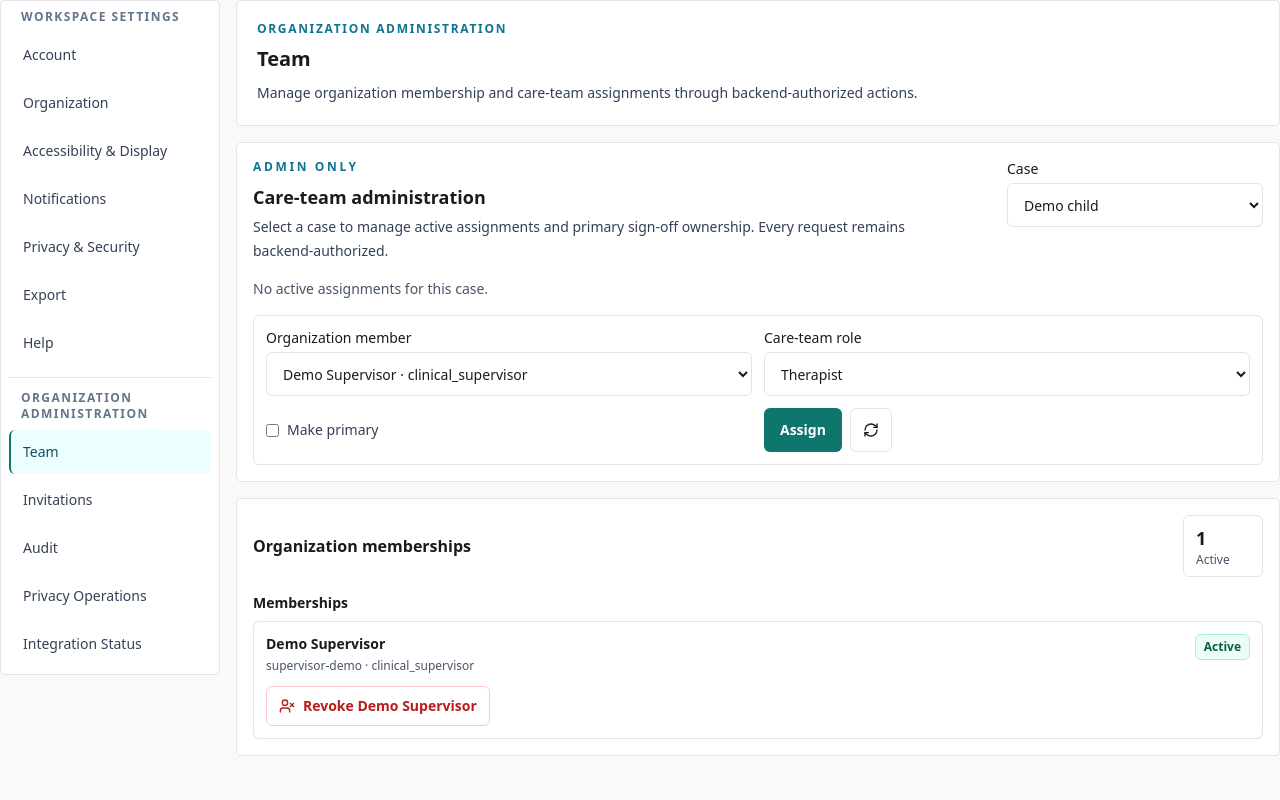
SettingsWorkspaceClient admin lifecycle UX › keeps care-team mutations inside authorized settings and sends org-admin headers
Expected: the heading "Care-team administration" is shown, x1=253 y1=185 x2=486 y2=209
Select "Clinical supervisor" in the dropdown labelled "Care-team role" at (1007, 374), box x1=764 y1=352 x2=1250 y2=396
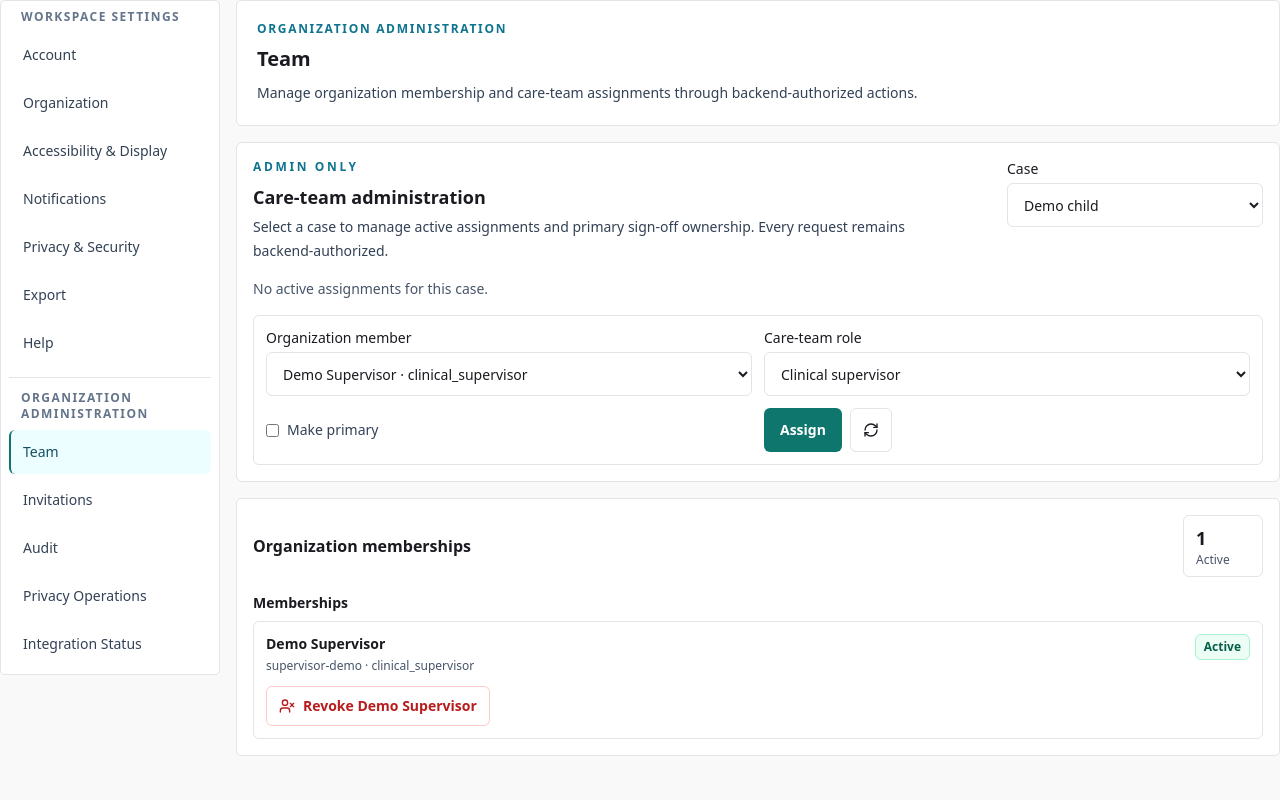
Click the button "Assign" at (803, 430), box x1=764 y1=408 x2=842 y2=452
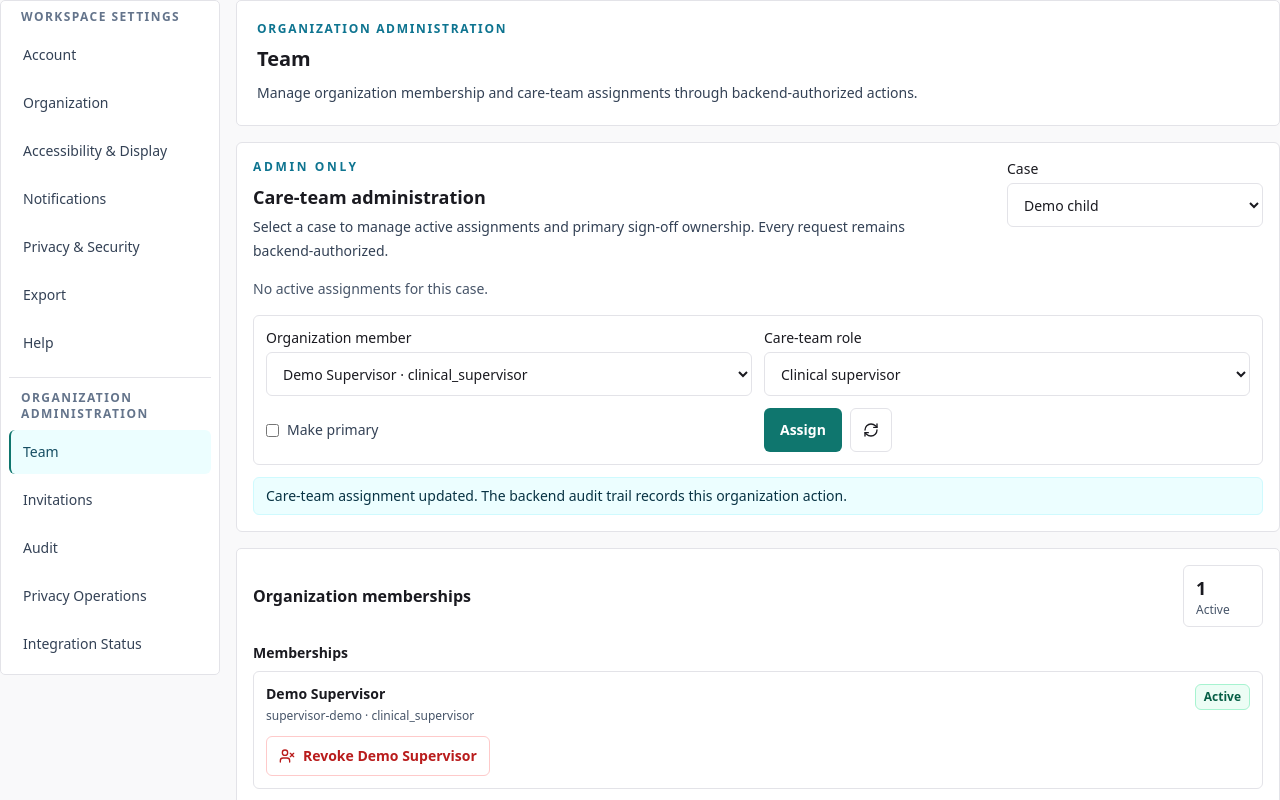
Result: the text "backend audit trail records this organization action" is shown at x1=266 y1=486 x2=847 y2=505
